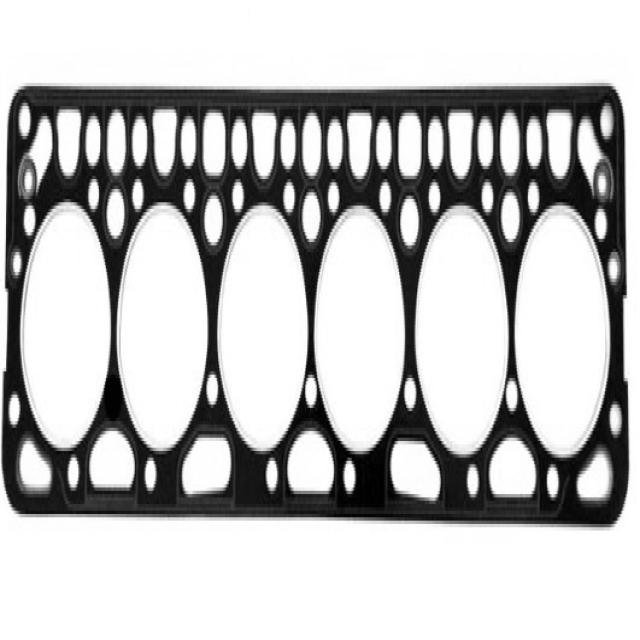missing hole: (95, 379, 136, 441)
